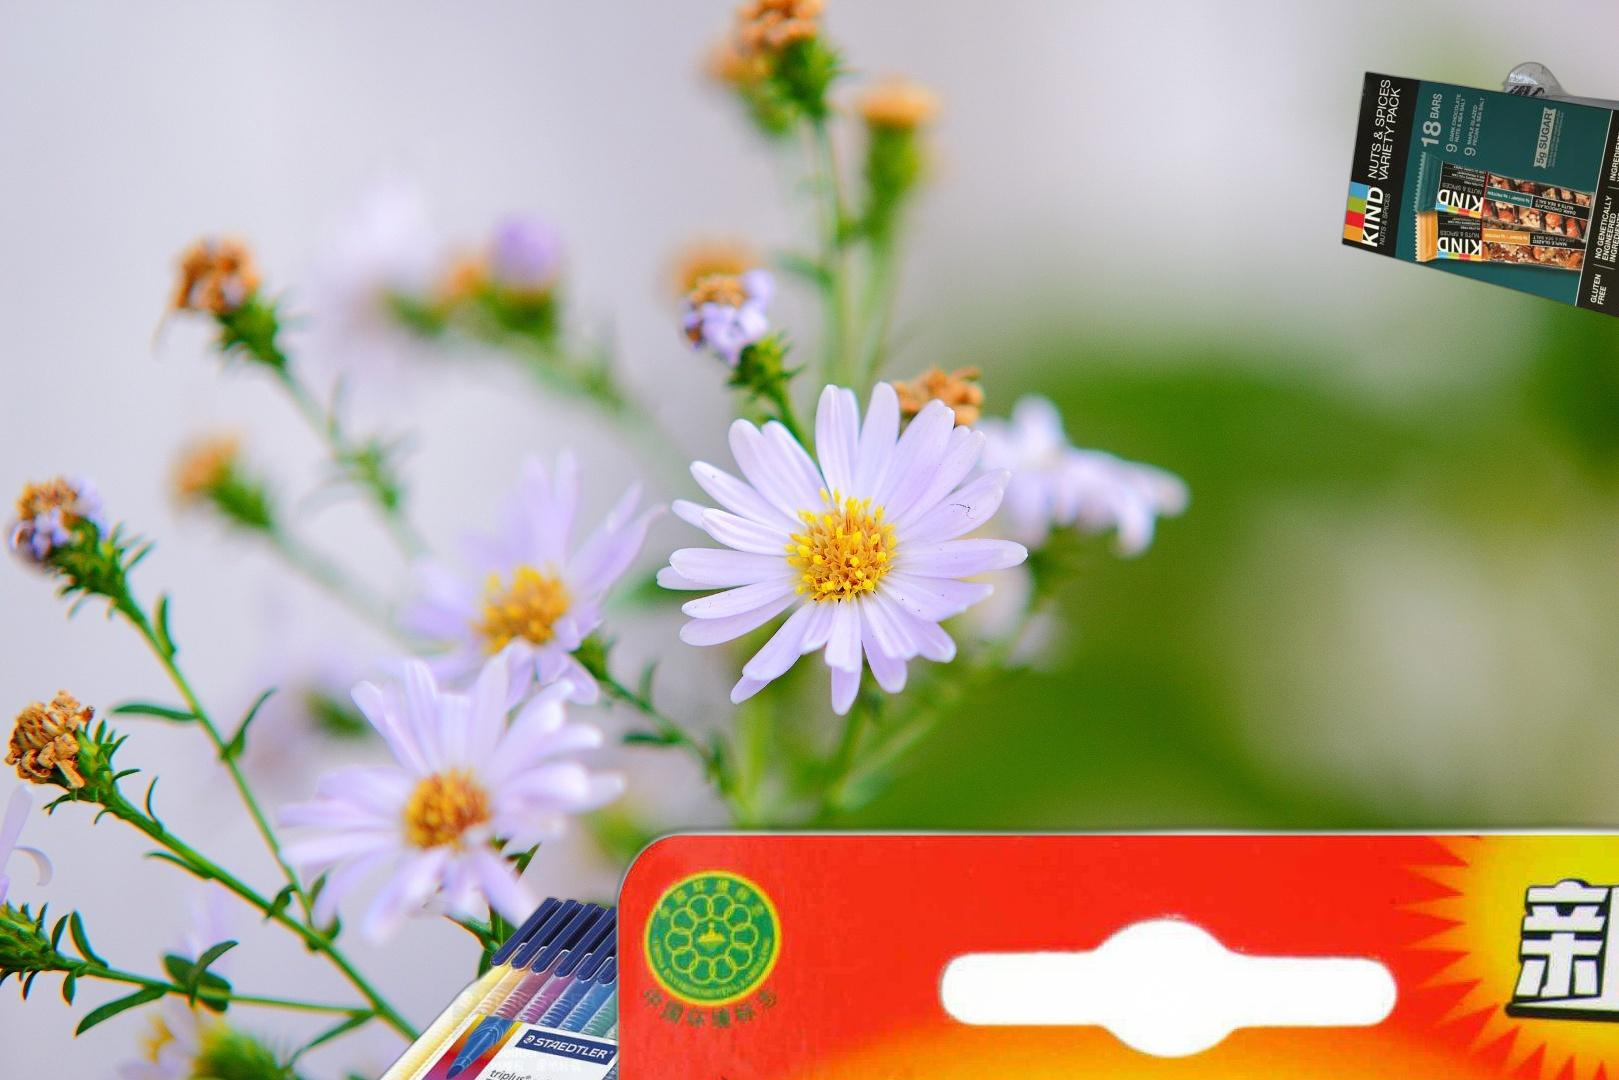battery: (604, 811, 1619, 1080)
paper: (1337, 59, 1619, 339)
penholder: (285, 893, 775, 1080)
